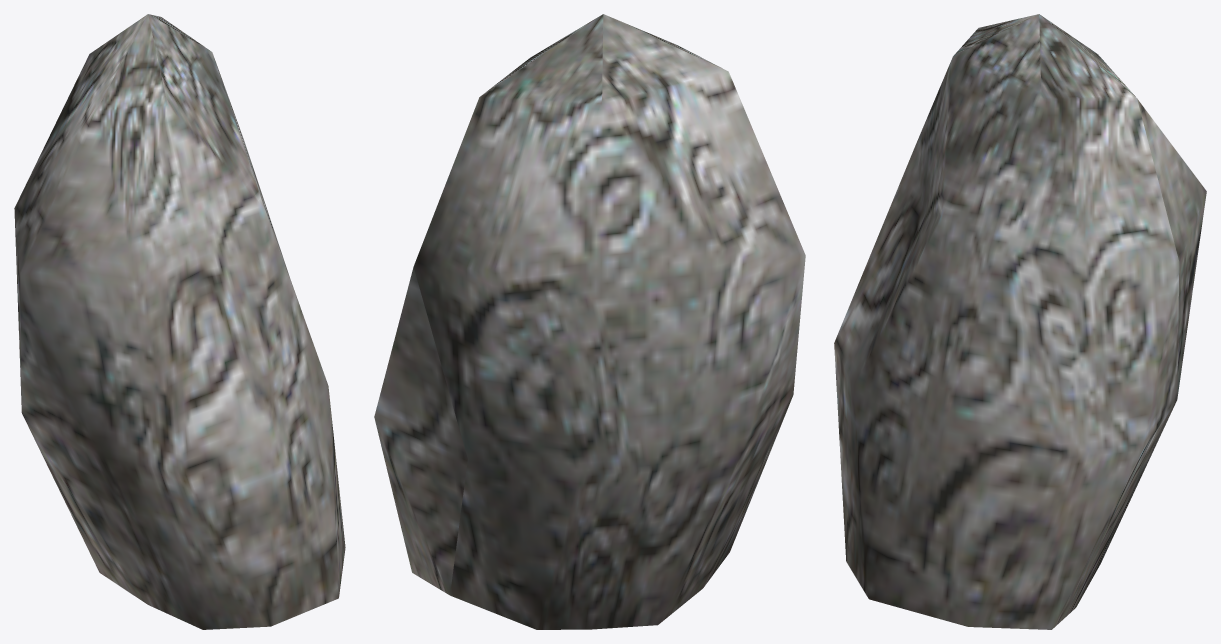
File: standingstone_d.dae
The picture shows the model from 3 angles, left to right: view 1: azimuth 30°, elevation 25°; view 2: azimuth 150°, elevation 25°; view 3: azimuth 270°, elevation 25°; orthographic projection. The views are drawn at different scales.
Visible parts, largest first — view 1: Object032; view 2: Object032; view 3: Object032.
Boxes of the visible parts, left/top/right/bottom form: Object032: left=14, top=14, right=345, bottom=629; Object032: left=374, top=14, right=805, bottom=629; Object032: left=834, top=14, right=1206, bottom=629.
Size of the model in its own units: 2.01 by 3.22 by 2.03.
